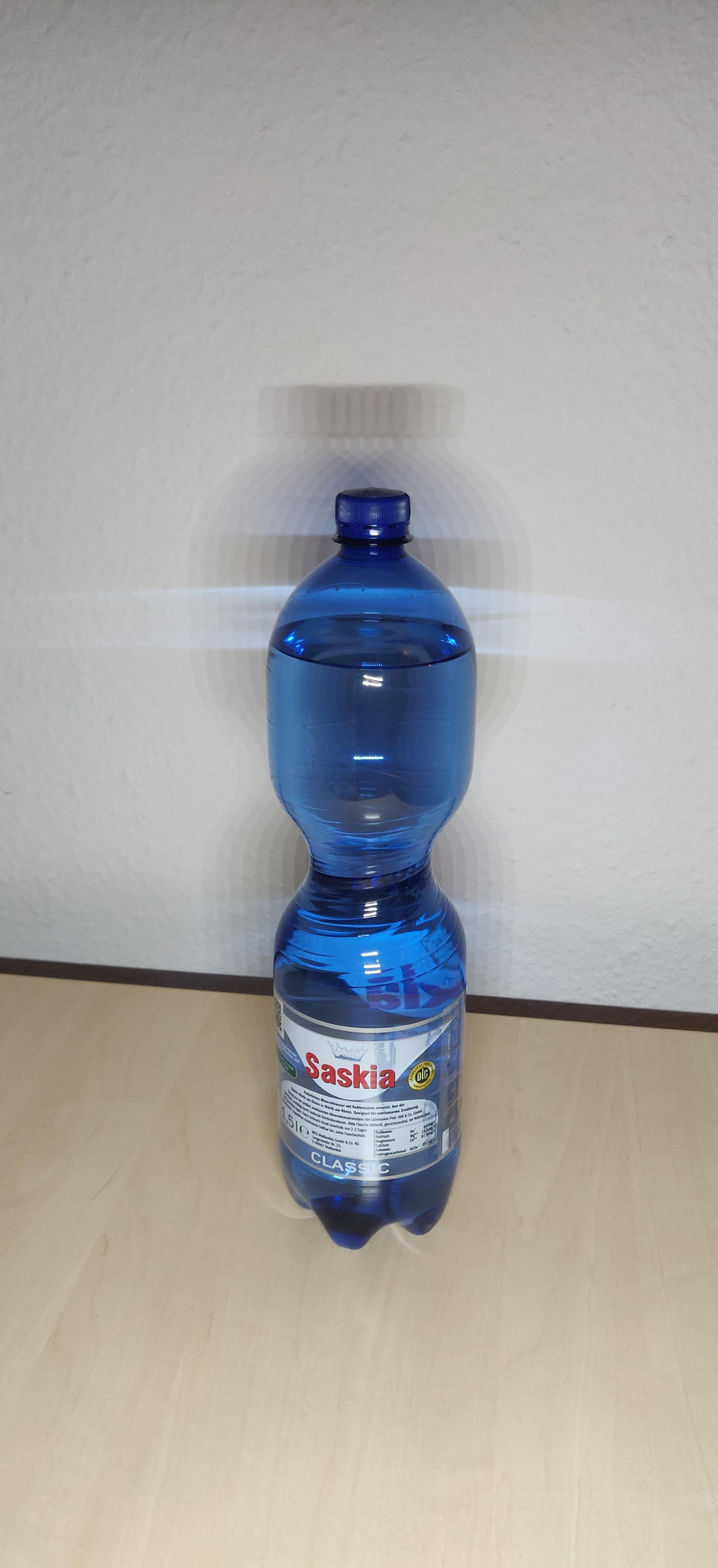bottle-plastic: (264, 485, 479, 1253)
